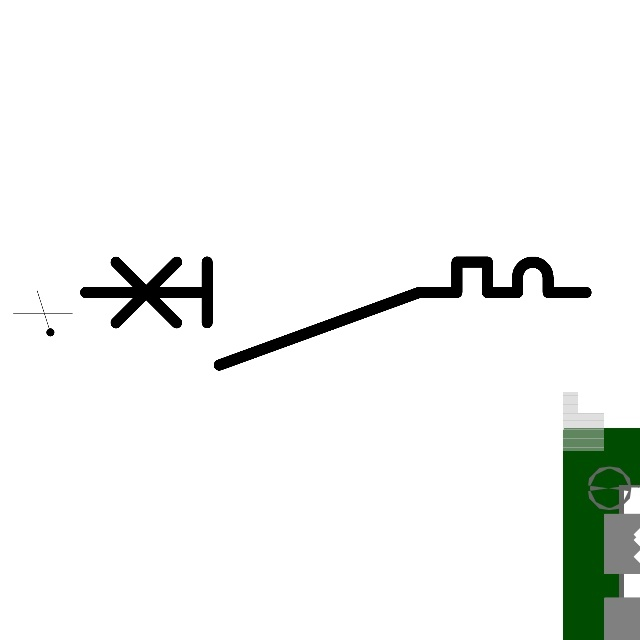interruptor_termomagnetico: (72, 249, 598, 378)
